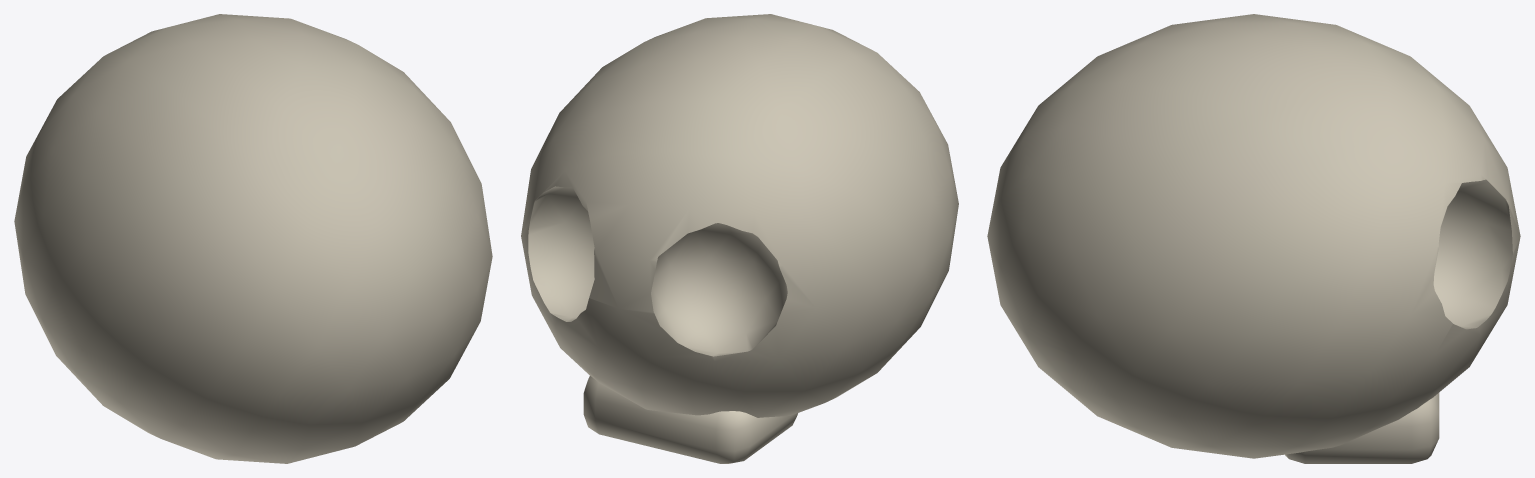
Rendered from lone-skull-v01.glb.
3 renders of one model, left to right at view 1: azimuth 30°, elevation 25°; view 2: azimuth 150°, elevation 25°; view 3: azimuth 270°, elevation 25°, orthographic. The views are drawn at different scales.
Parts seen in each view (by area): view 1: skull; view 2: skull; view 3: skull.
Boxes of the visible parts, x1,y1,x2,y2 form: skull: (14,14,492,463); skull: (521,14,958,463); skull: (987,14,1520,463).
Bounding box in the file's own units: 0.48 × 0.456 × 0.552.
